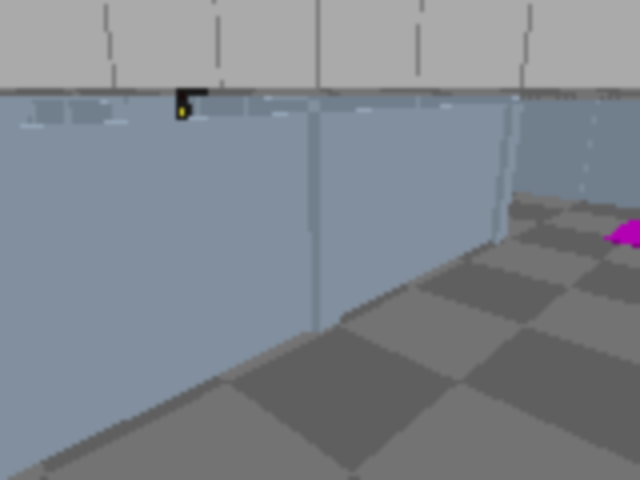goal_zone: (604, 220, 638, 267)
